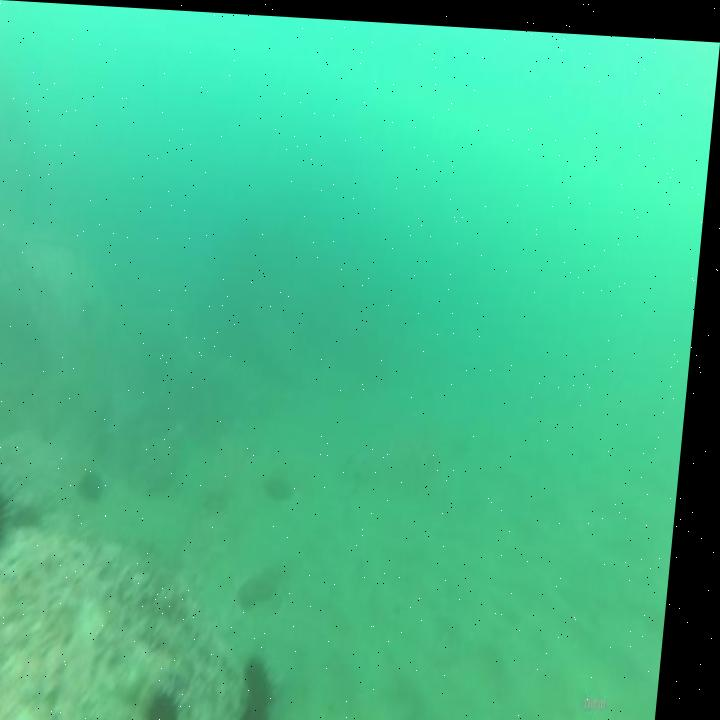echinus: (250, 647, 291, 720), (0, 471, 19, 575), (155, 680, 195, 720)
